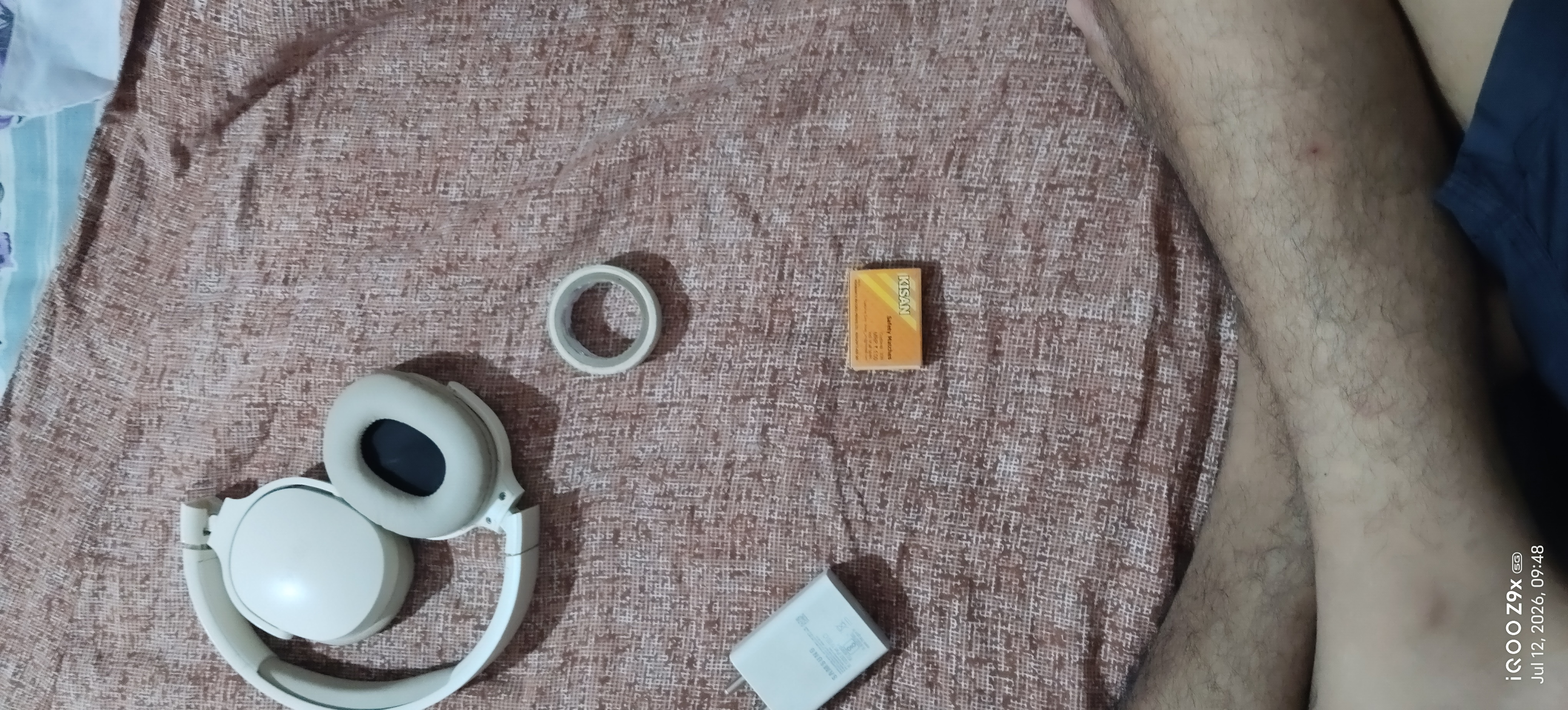charger: (708, 551, 904, 710)
matchbox: (836, 260, 950, 388)
tape_roll: (533, 251, 673, 388)
